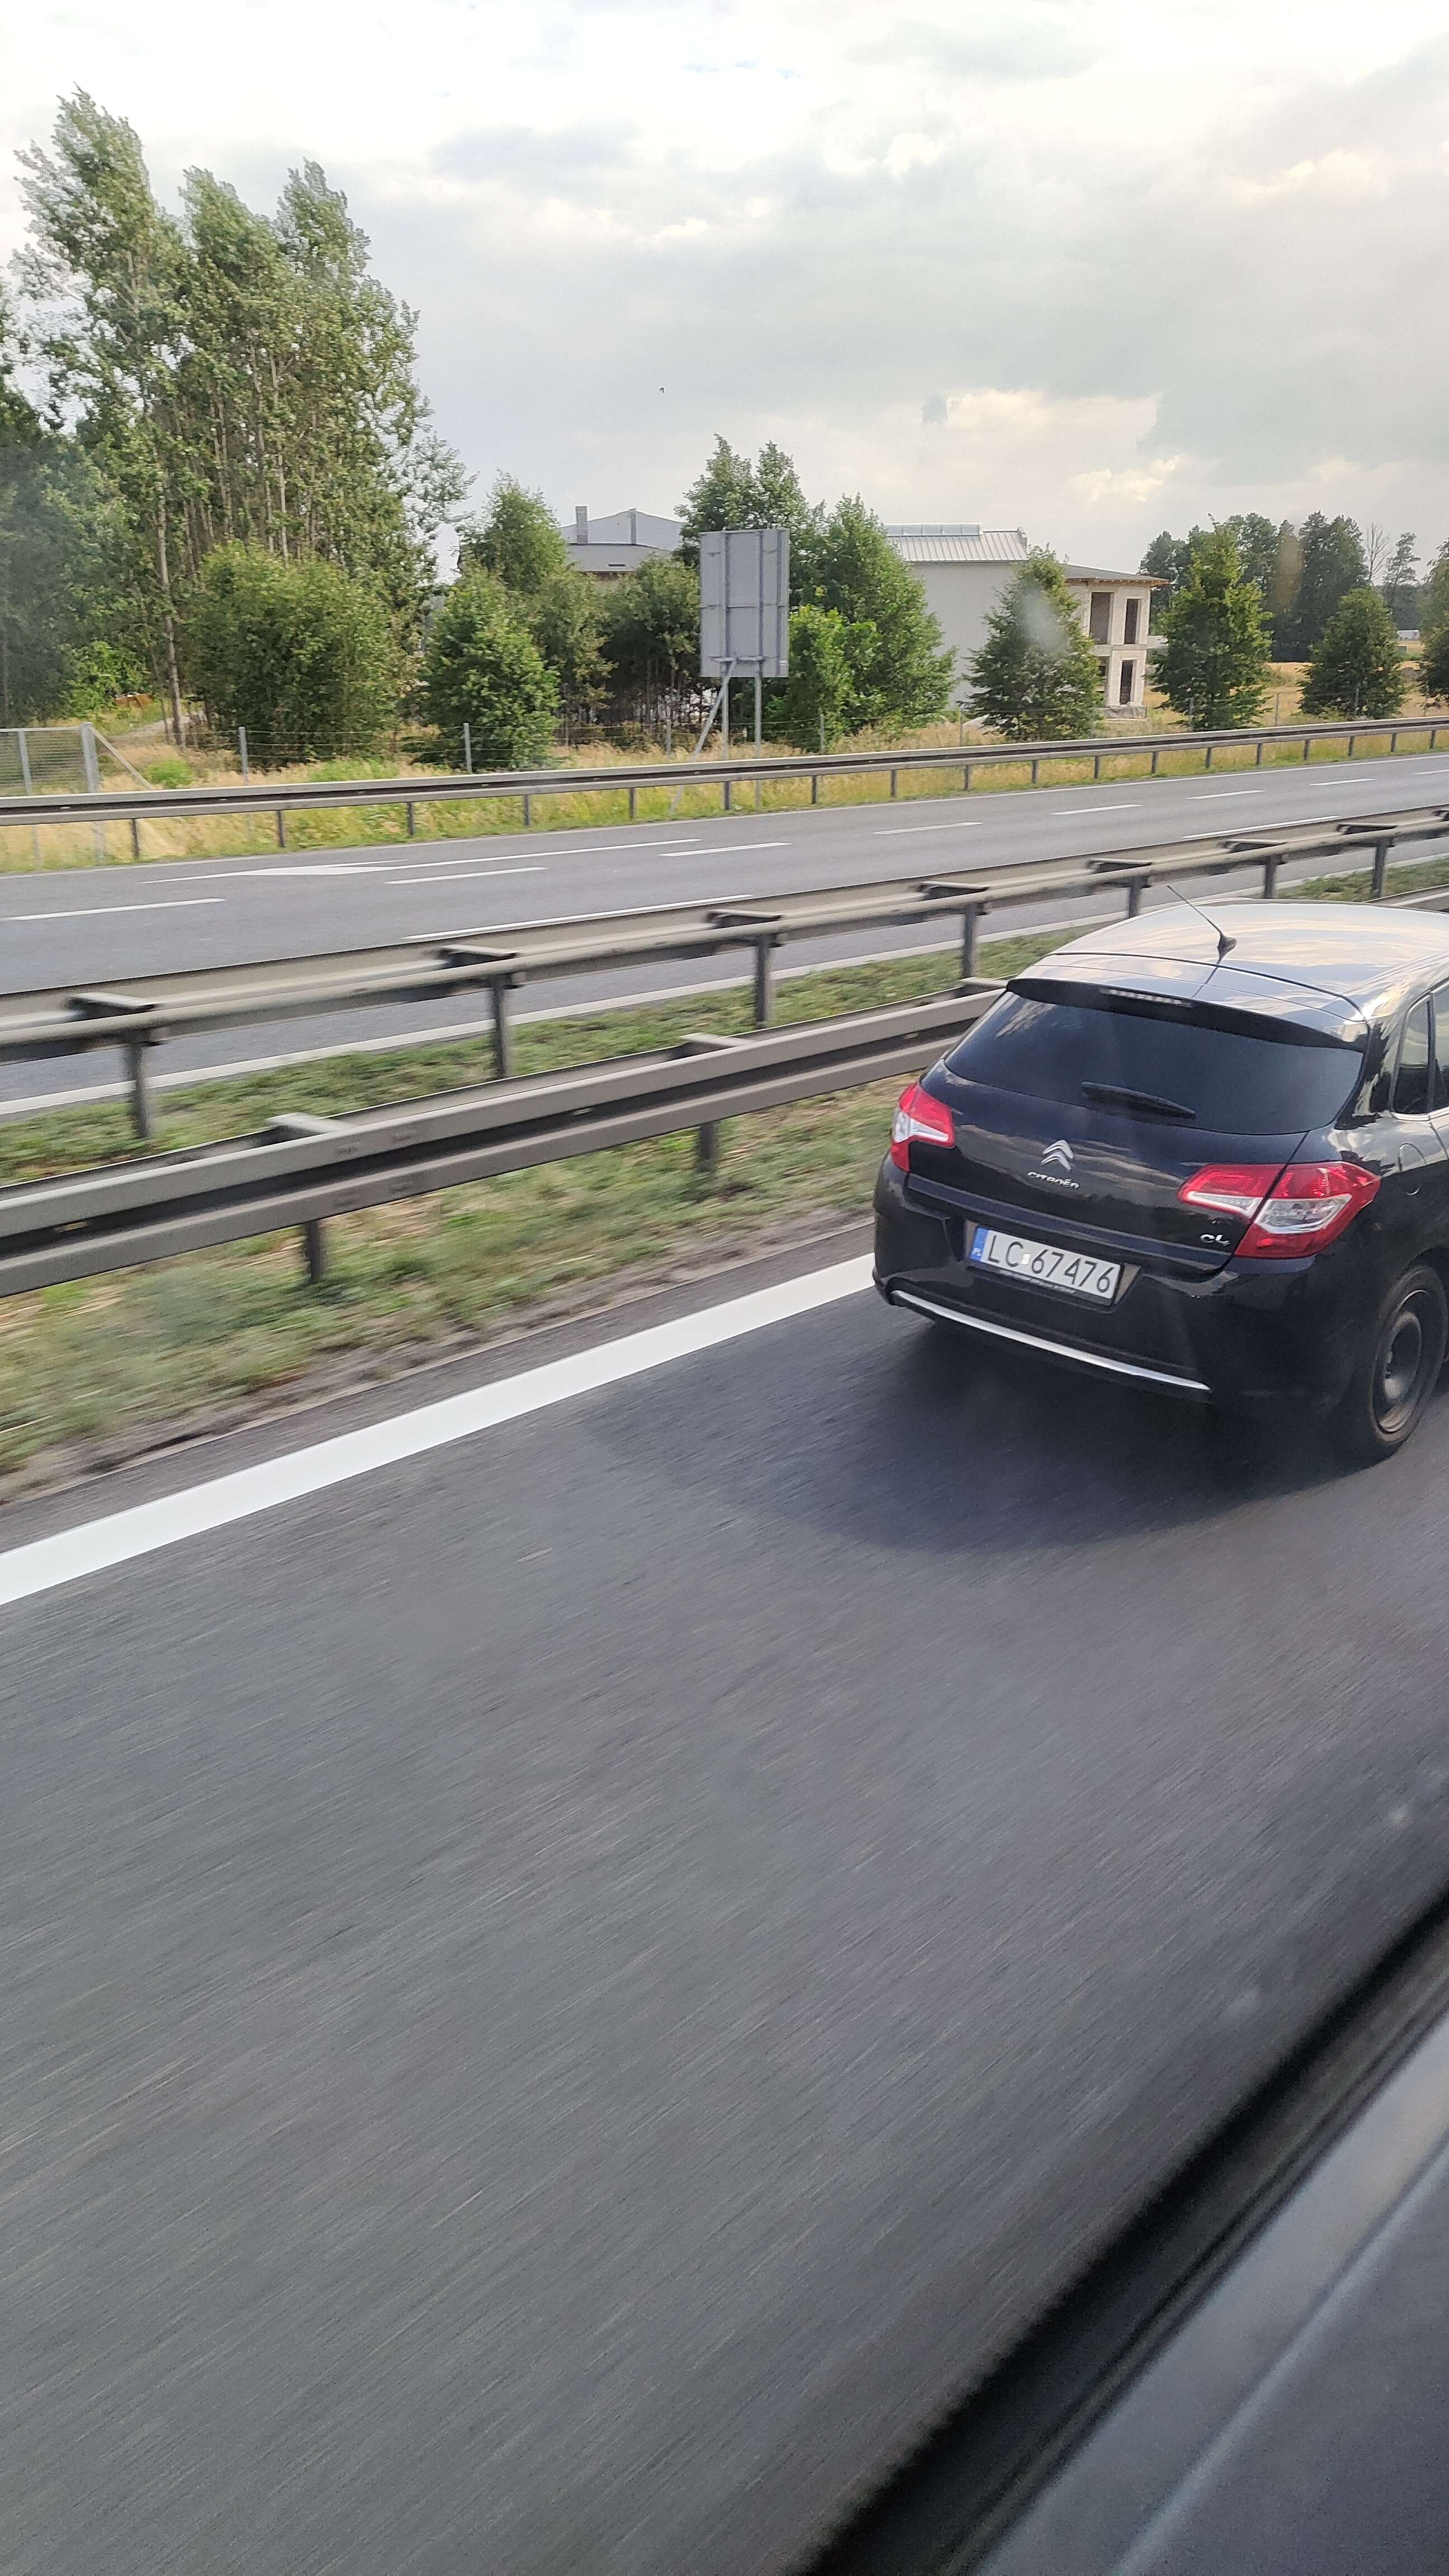number_plate: (969, 1227, 1124, 1308)
